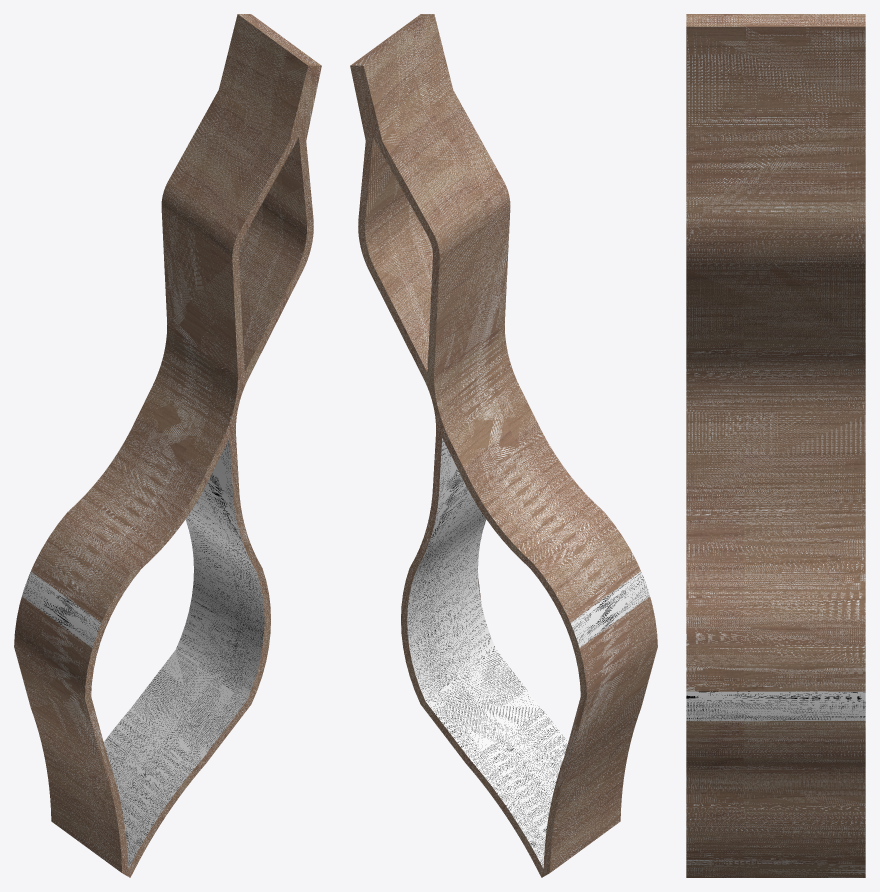
File: original-36.obj
3 renders of one model, left to right at view 1: azimuth 30°, elevation 25°; view 2: azimuth 150°, elevation 25°; view 3: azimuth 270°, elevation 25°, orthographic. The views are drawn at different scales.
Parts seen in each view (by area): view 1: Component_1_22/Component_1/mesh43/mesh43-geometry#mesh43-geometr; view 2: Component_1_22/Component_1/mesh43/mesh43-geometry#mesh43-geometr; view 3: Component_1_22/Component_1/mesh43/mesh43-geometry#mesh43-geometr.
Boxes of the visible parts, bbox=[...] form: Component_1_22/Component_1/mesh43/mesh43-geometry#mesh43-geometr: bbox=[14, 14, 321, 877]; Component_1_22/Component_1/mesh43/mesh43-geometry#mesh43-geometr: bbox=[350, 14, 657, 877]; Component_1_22/Component_1/mesh43/mesh43-geometry#mesh43-geometr: bbox=[686, 14, 865, 877].
Size of the model in its own units: 0.2618 by 0.8113 by 0.1353.
